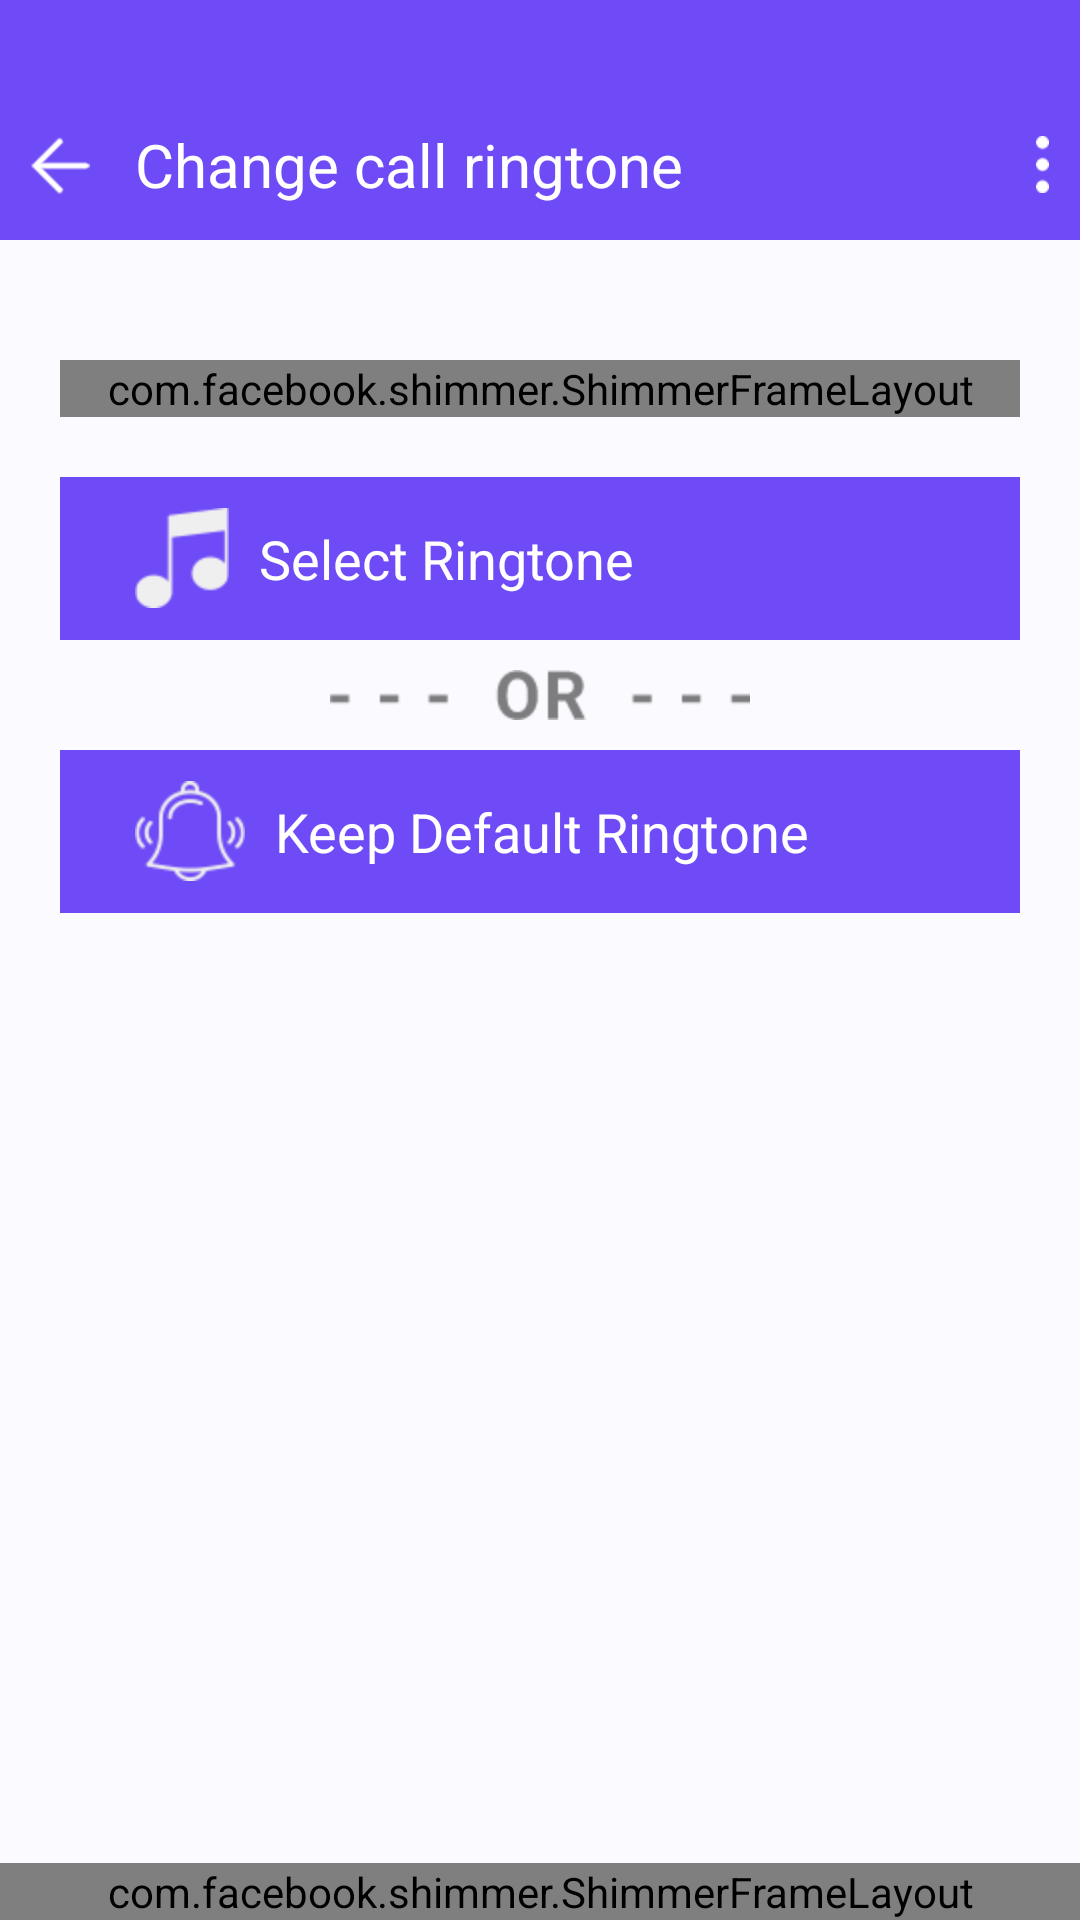

Locate icon controls on the screen. Image size 1080*1920, boxes as region(x1, y1, x2, y2).
back: region(31, 138, 90, 194)
options: region(1036, 136, 1049, 193)
set ringtone: region(135, 508, 229, 608), region(135, 781, 245, 881)
